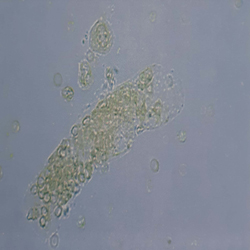Cast: (18, 62, 189, 230), (68, 19, 115, 91), (59, 82, 75, 103), (176, 129, 188, 144)
